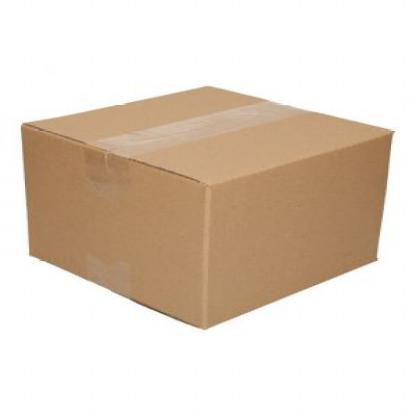box: (18, 84, 395, 330)
